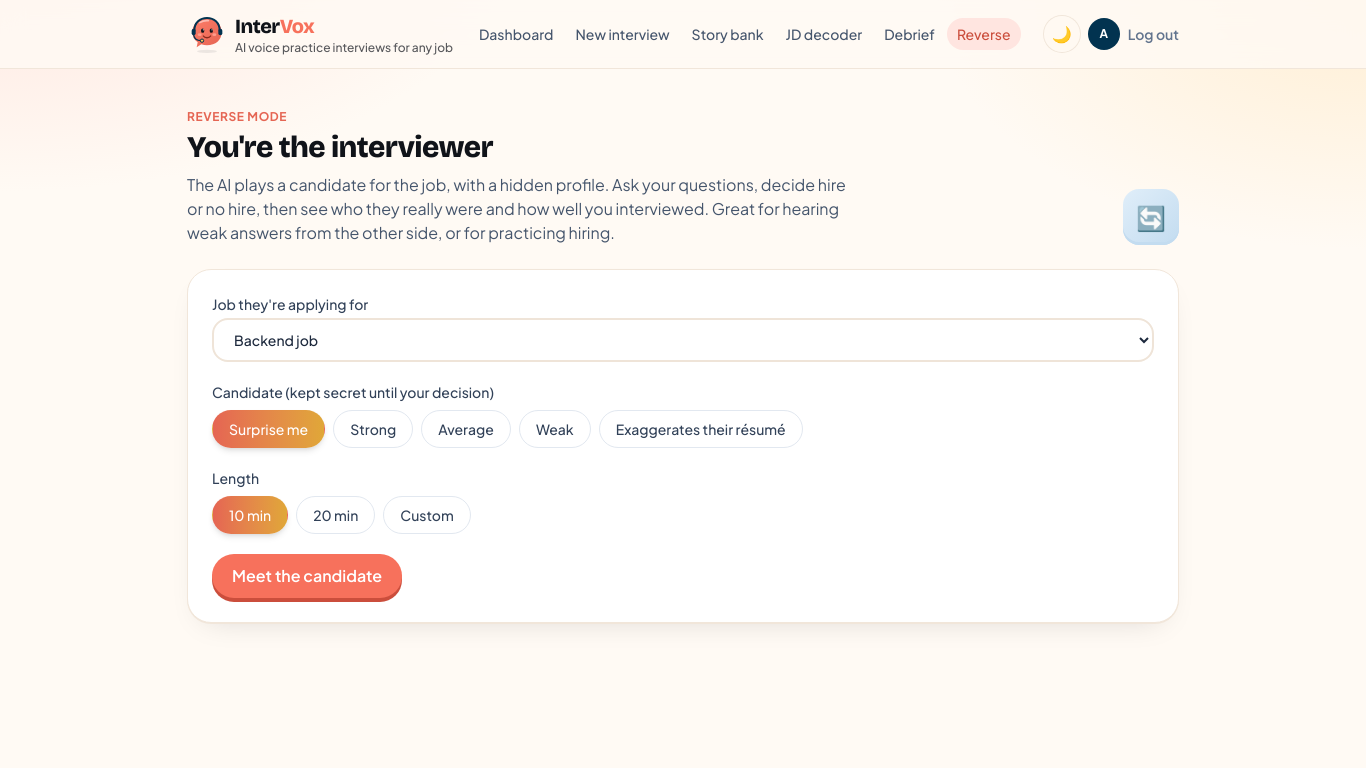
Test: reverse mode › offers a custom length
Click the radio button labelled "Custom". click: click(427, 515)
box: [383,496,471,534]
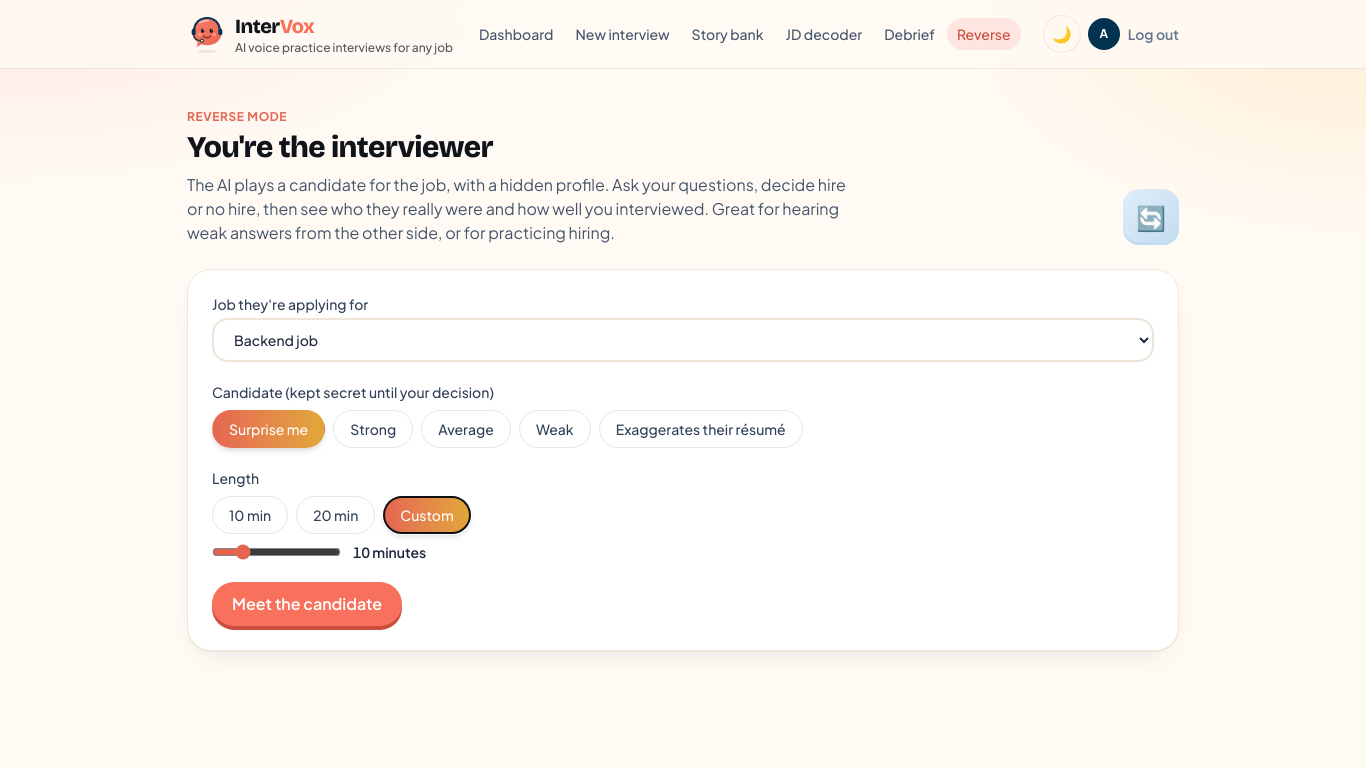
Set the slider named "Custom length in minutes" to "15". click: (265, 552)
box: [212,544,341,560]
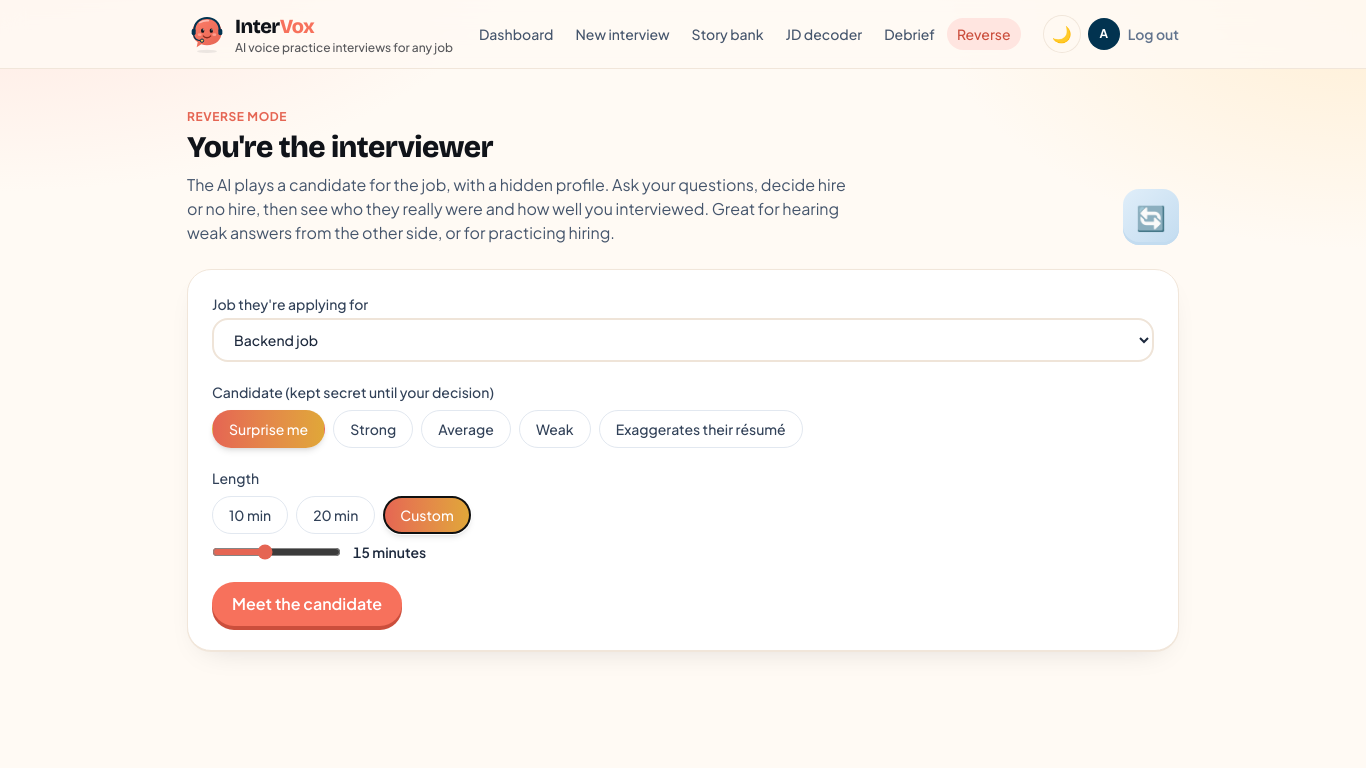
Expected: the text "15 minutes" is shown, [353,542,426,562]
Click the button "Meet the candidate". click: click(307, 604)
box: [212,582,402,626]
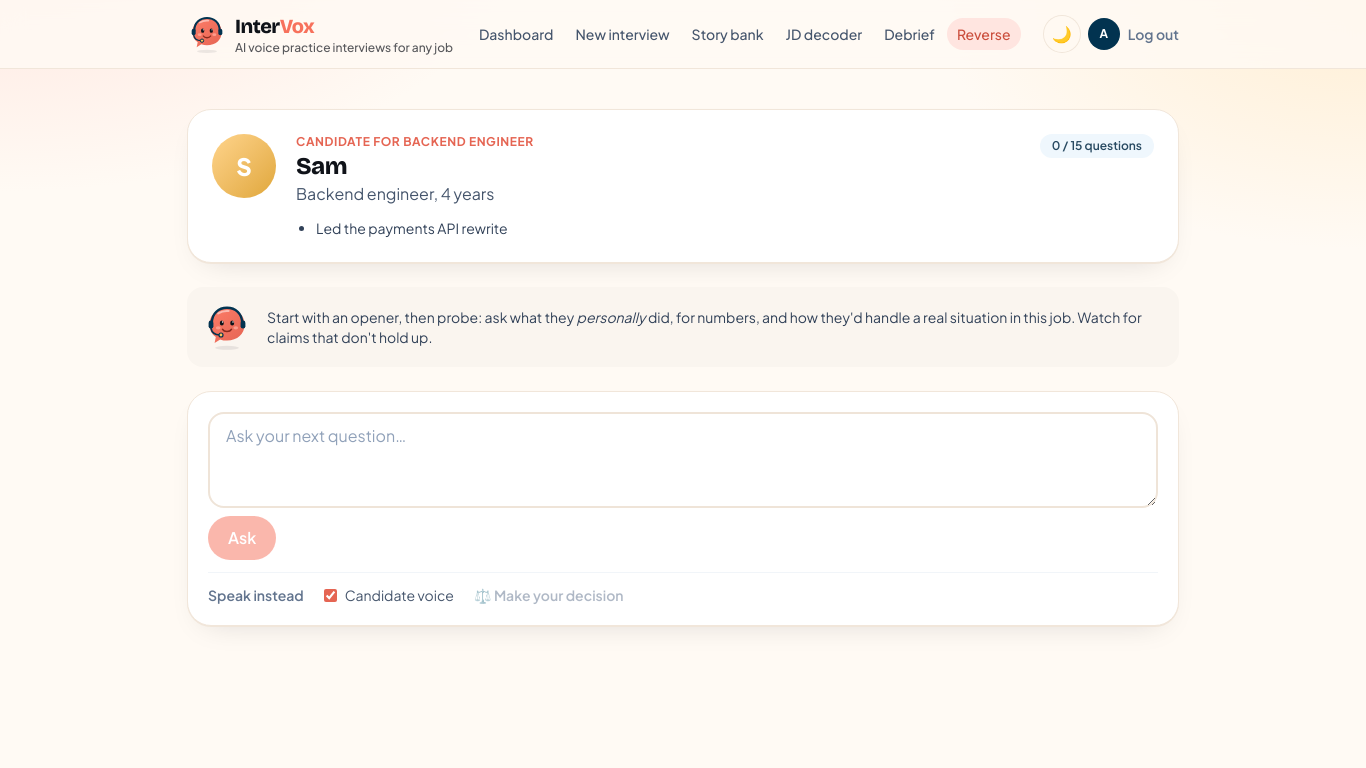
Expected: the list item "Led the payments API rewrite" is shown, [316,219,508,237]
